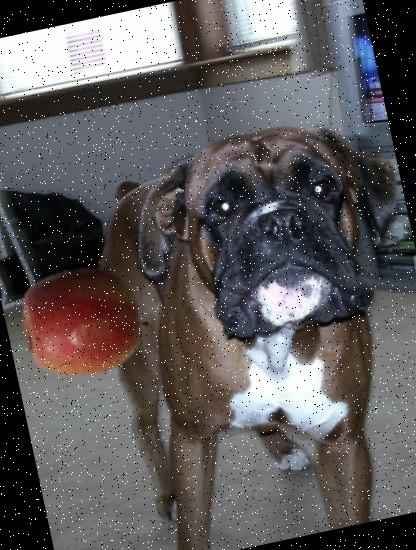Apple: (10, 246, 162, 398)
